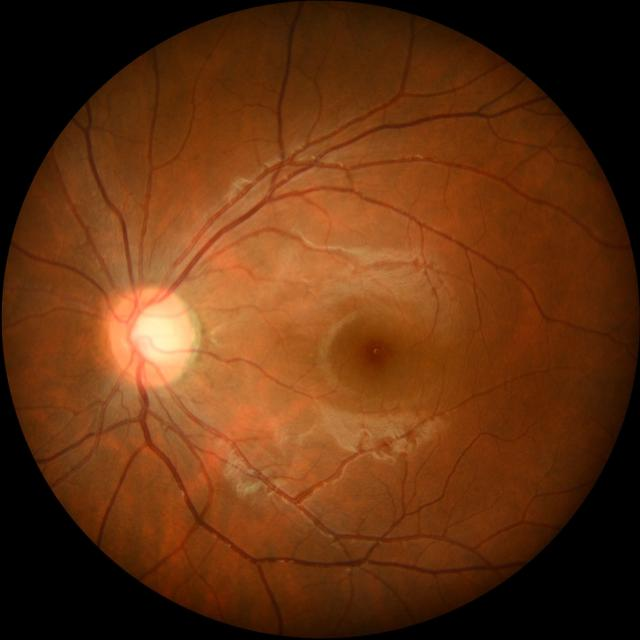OC: (126, 304, 182, 366)
OD: (106, 285, 194, 386)
